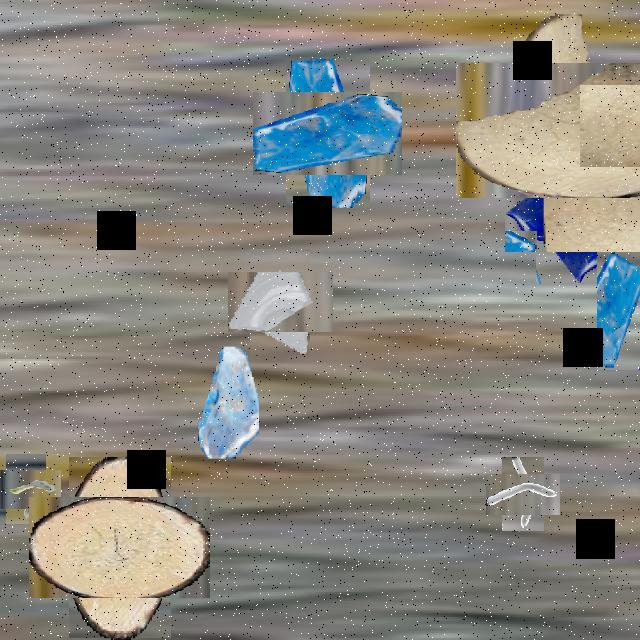glass: (270, 75, 386, 192), (520, 154, 634, 268), (238, 260, 322, 344), (196, 347, 258, 457), (597, 252, 640, 370)
metal: (494, 465, 552, 523), (0, 461, 53, 516)
wood: (480, 38, 640, 221), (49, 477, 191, 618)
